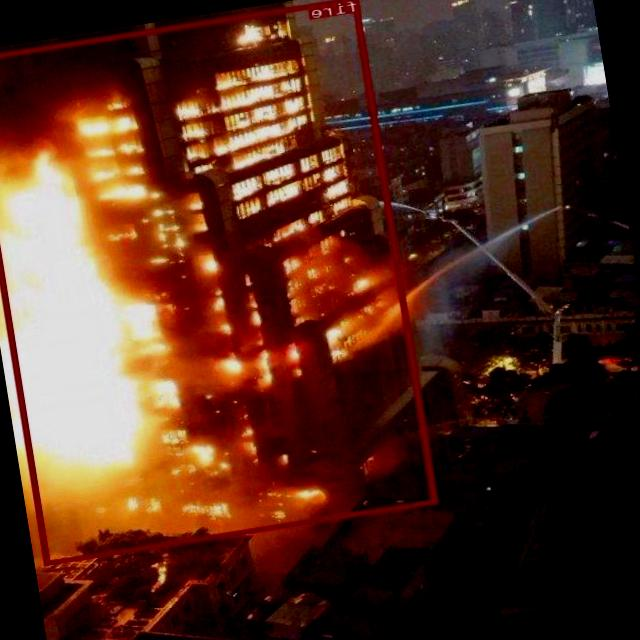fire: (0, 0, 439, 564)
